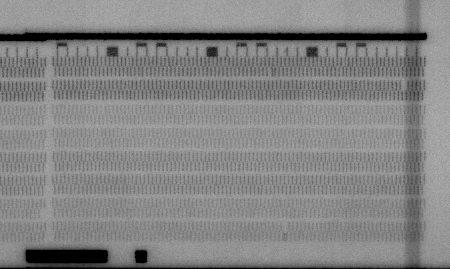Broken hole: (398, 79, 411, 92), (279, 219, 291, 231), (37, 210, 49, 220)
Oblique printing: (265, 65, 277, 77)
